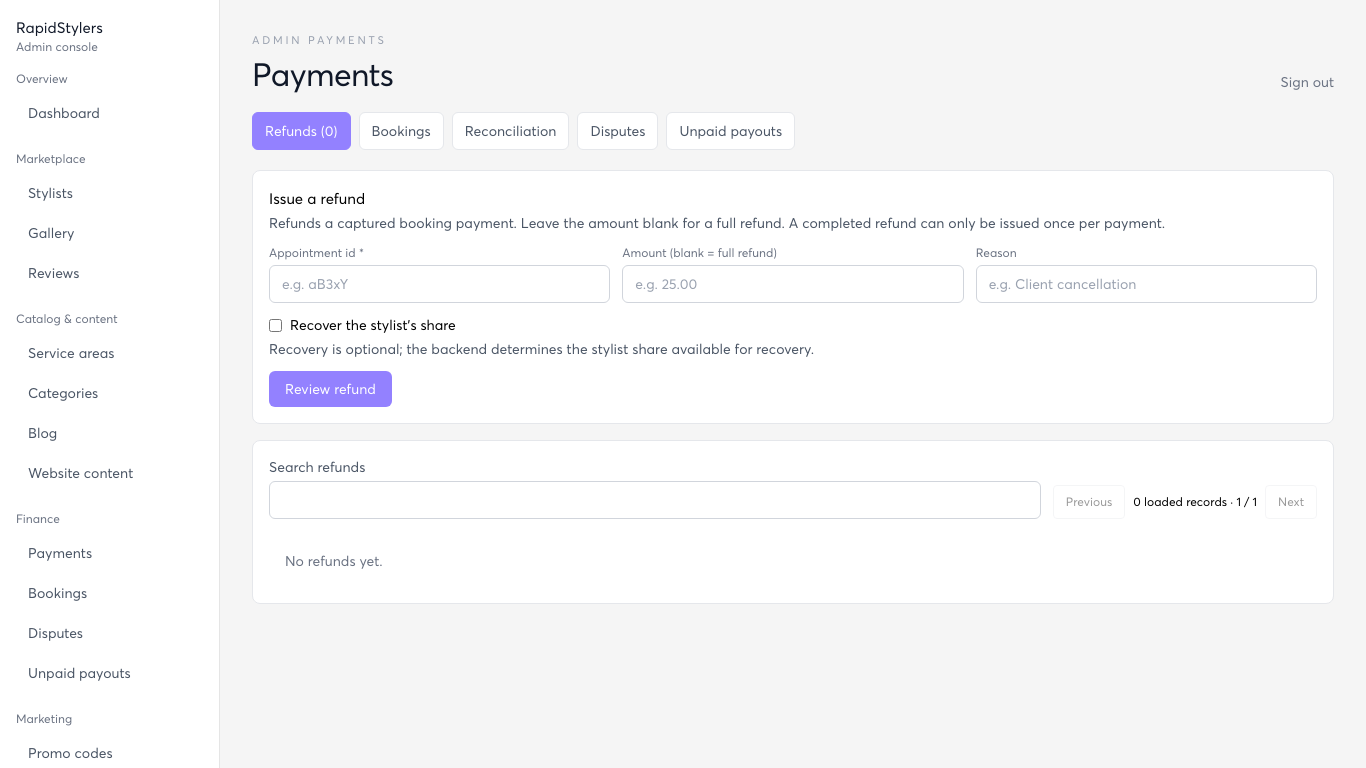
Test: confirms a payout, reports the backend hold message, and refetches
The image size is (1366, 768).
Expected: the text "No refunds yet." is shown, [285,552,382,569]
Step 1. Click the button "Unpaid payouts" → (731, 131), box [666,112,795,150]
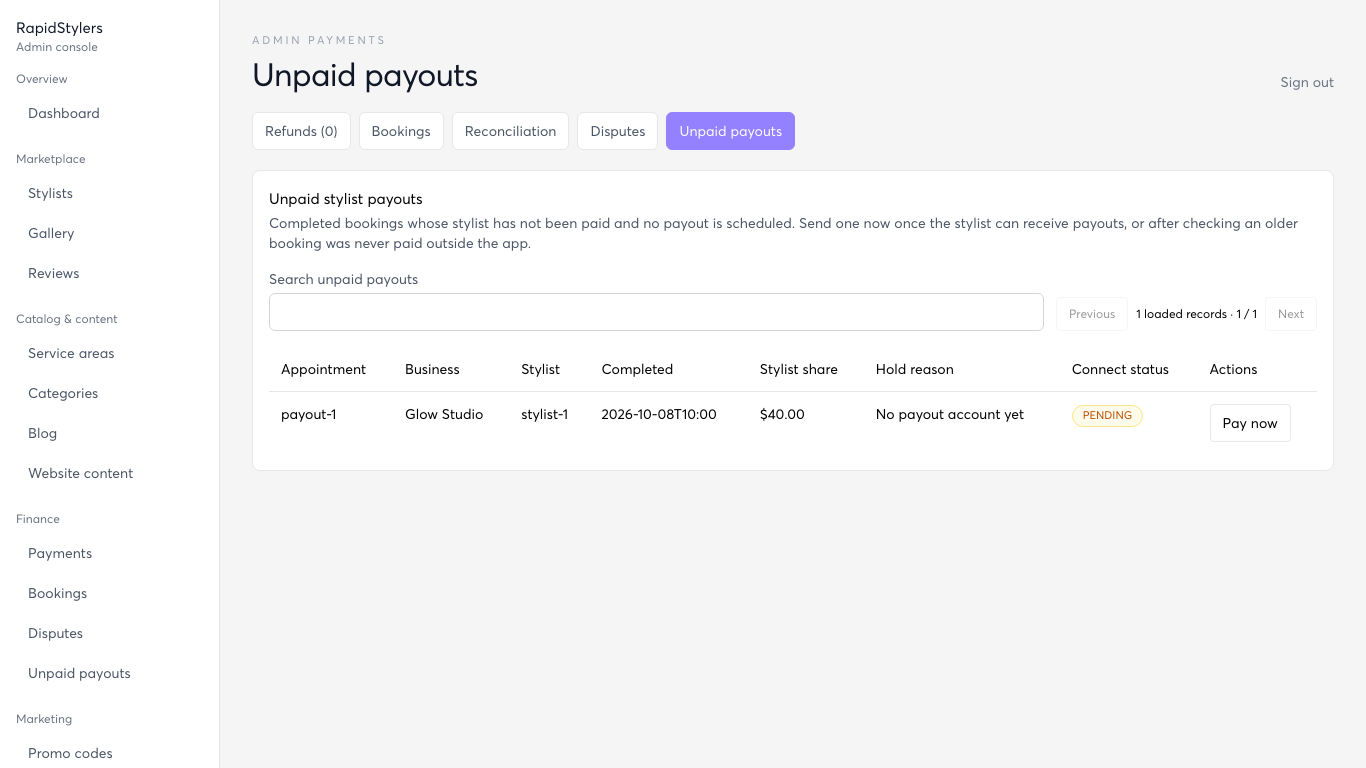
Expected: the text "Glow Studio" is shown, [393,392,509,454]
Step 2. Click the button "Pay now" → (1250, 423), box [1210,404,1291,442]
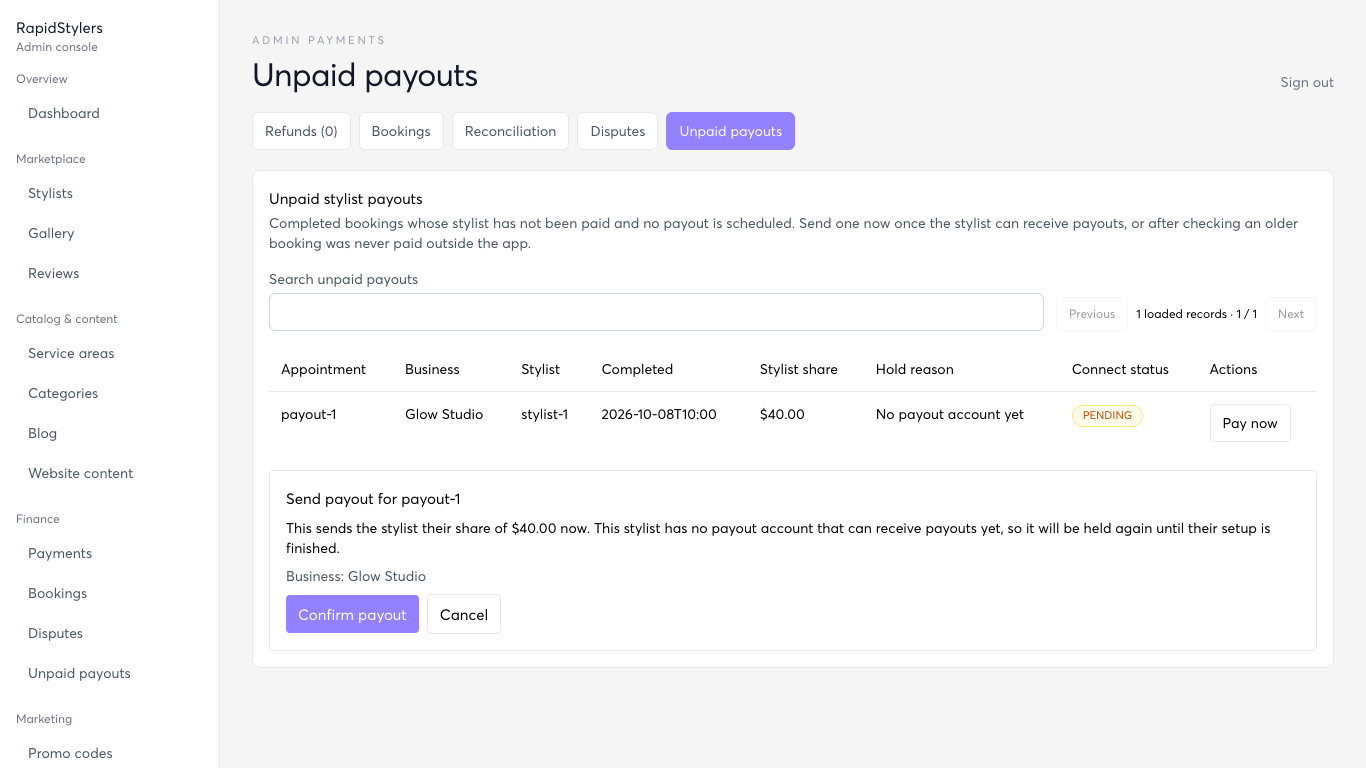
Expected: the heading "Send payout for payout-1" is shown, [286,489,460,507]
Expected: the text "no payout account that can receive payouts yet" is shown, [286,519,1270,556]
Step 3. Click the button "Confirm payout" → (352, 614), box [286,595,419,633]
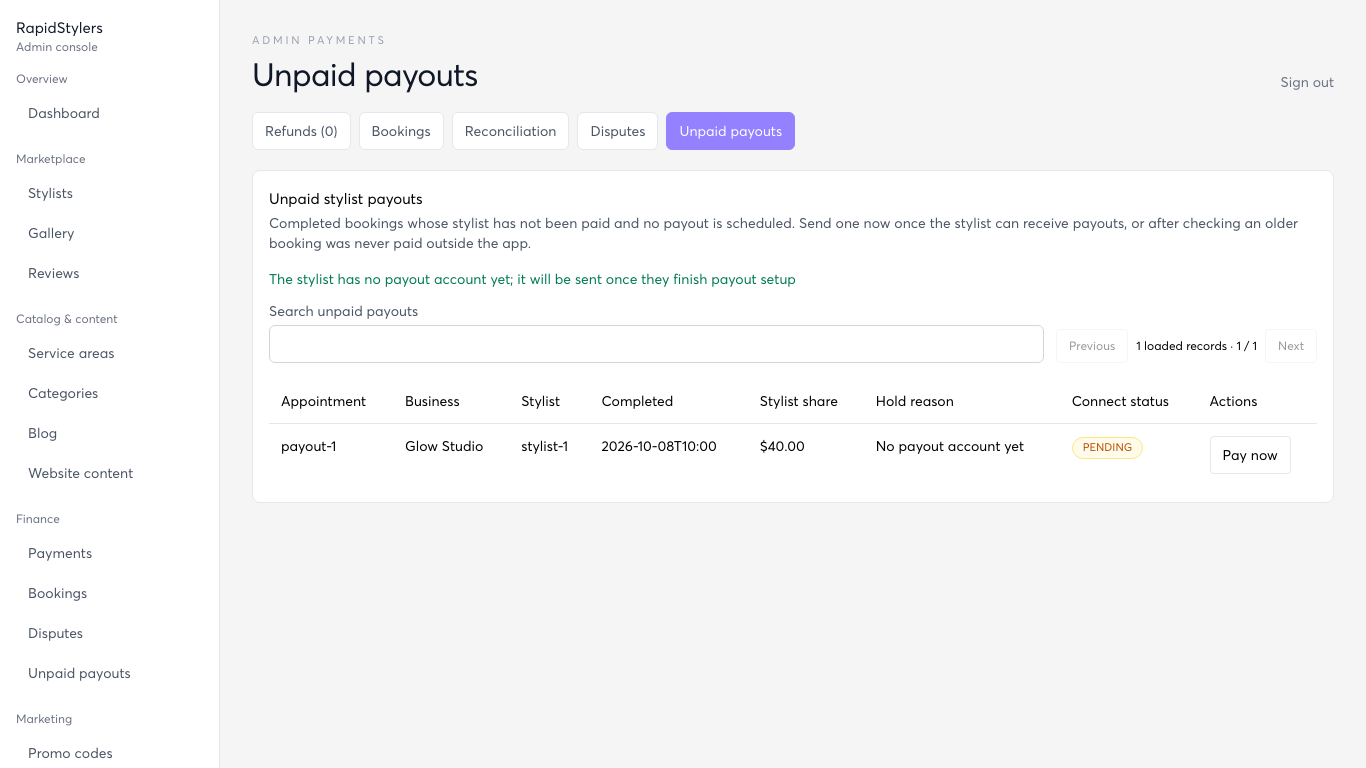
Expected: the message shows "it will be sent once they finish payout setup", [269,270,796,287]
